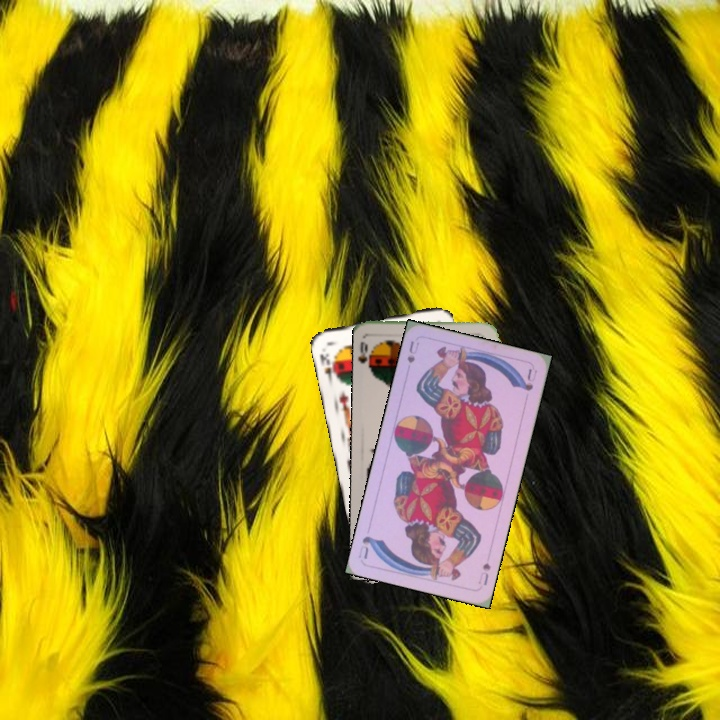SK: (316, 349, 341, 384)
SO: (356, 338, 376, 375)
SU: (403, 337, 422, 366), (474, 559, 493, 588)
